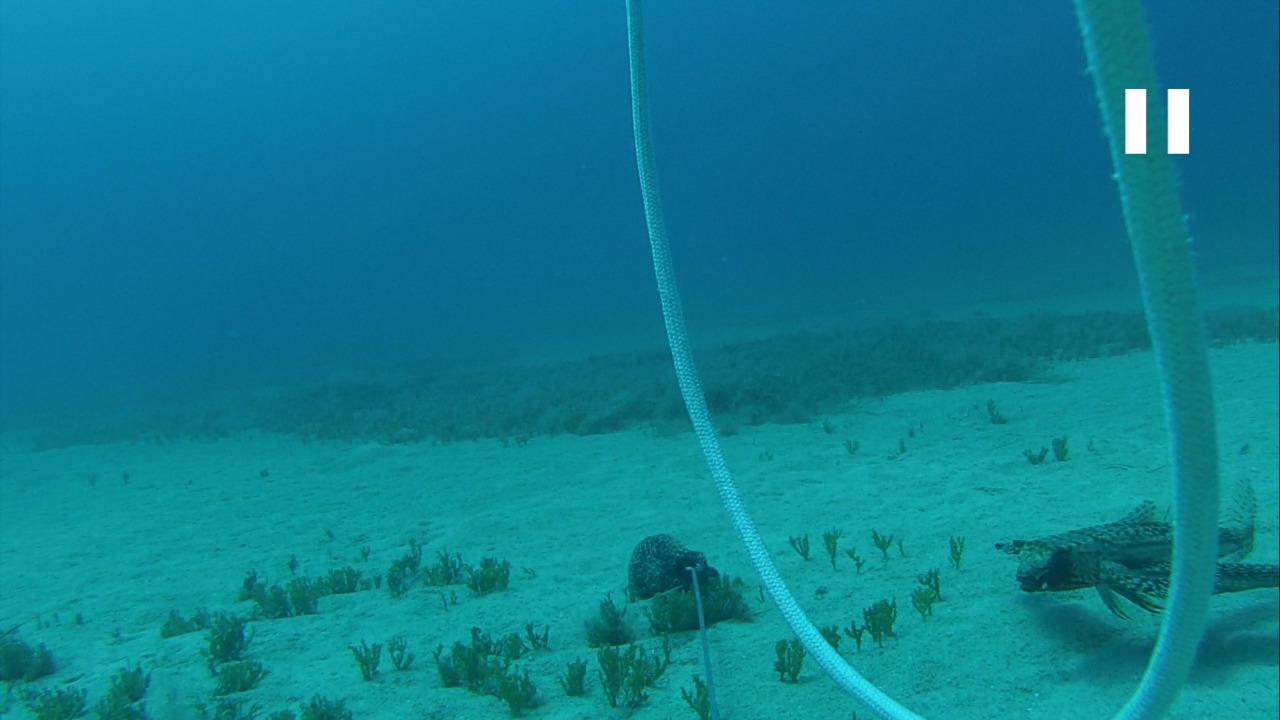dactylopterus: (996, 480, 1279, 610)
